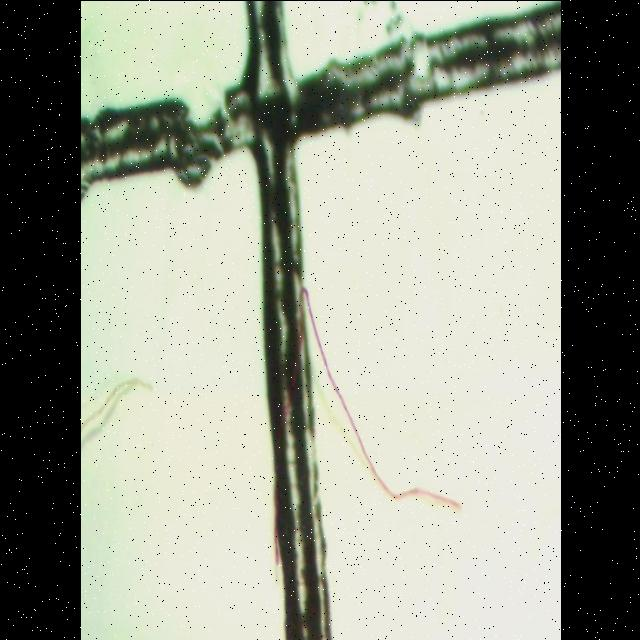Fibre: (270, 276, 464, 576), (79, 364, 155, 454)
